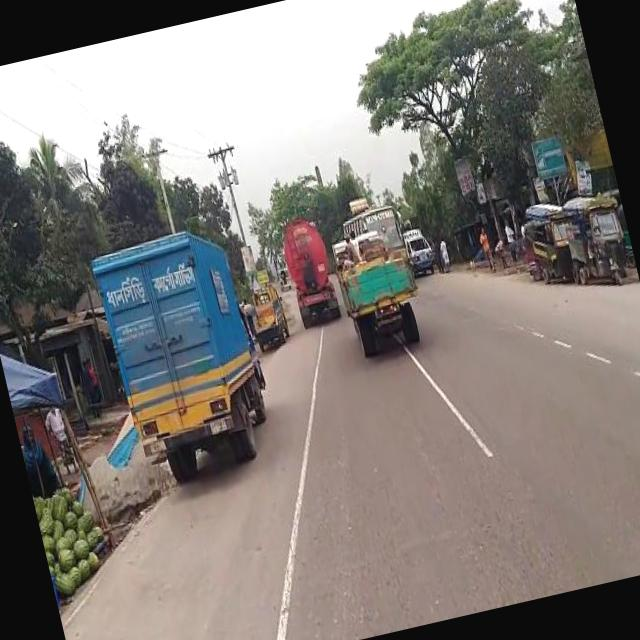bus: (338, 202, 404, 238), (402, 222, 439, 280), (273, 264, 292, 292)
motorcycle: (556, 188, 634, 290), (519, 195, 577, 286), (515, 222, 541, 280)
truck: (86, 219, 281, 482), (329, 230, 426, 352), (274, 212, 340, 324), (242, 282, 292, 353)
